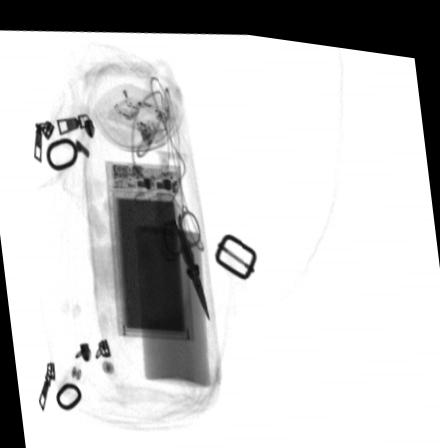Powerbank: (105, 155, 195, 336)
Scissors: (160, 199, 212, 320)
